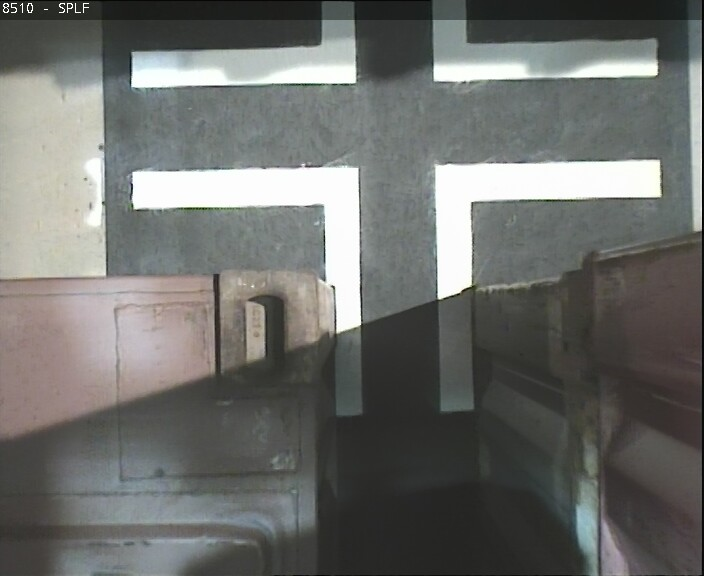groundmarker_1: (132, 155, 663, 413)
